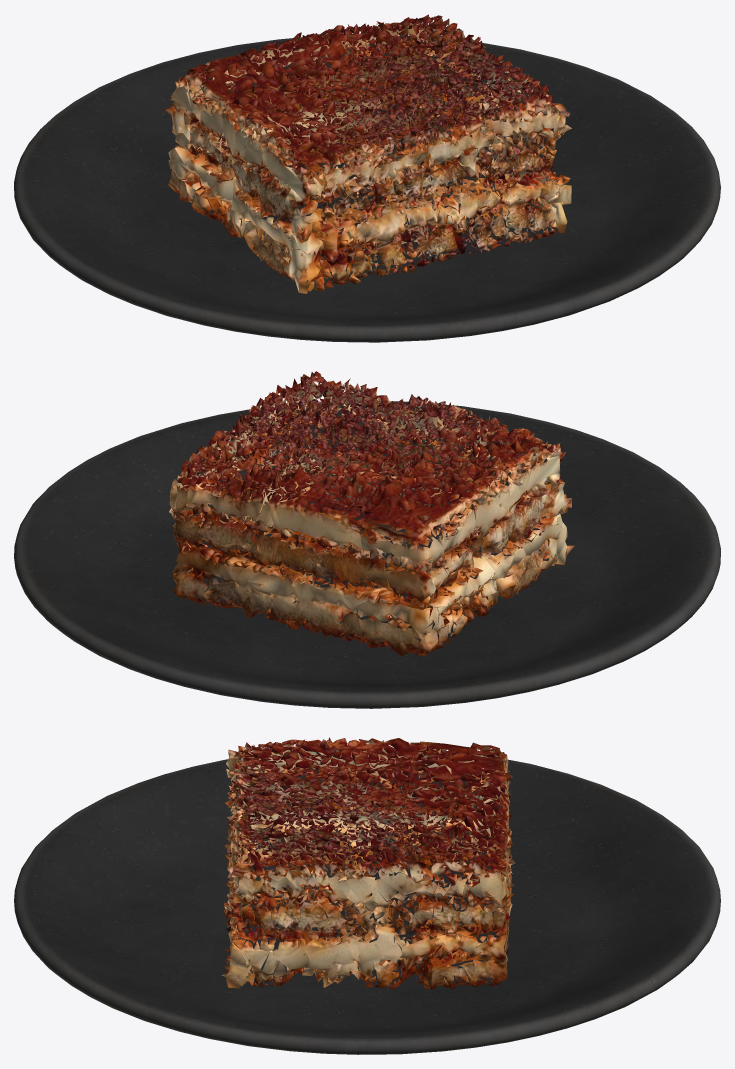
The model's file is dish-tiramisu.glb.
3 renders of one model, top to bottom at view 1: azimuth 30°, elevation 25°; view 2: azimuth 150°, elevation 25°; view 3: azimuth 270°, elevation 25°, orthographic.
Parts seen in each view (by area): view 1: plate, model; view 2: plate, model; view 3: plate, model.
Part boxes in pixels (bbox=[...]): plate: bbox=[14, 35, 720, 342]; model: bbox=[163, 14, 571, 293]; plate: bbox=[14, 401, 720, 708]; model: bbox=[169, 371, 574, 656]; plate: bbox=[14, 747, 720, 1054]; model: bbox=[222, 737, 515, 989].
Bounding box in the file's own units: 0.21 × 0.0544 × 0.21.
2 materials, 2 textured.
